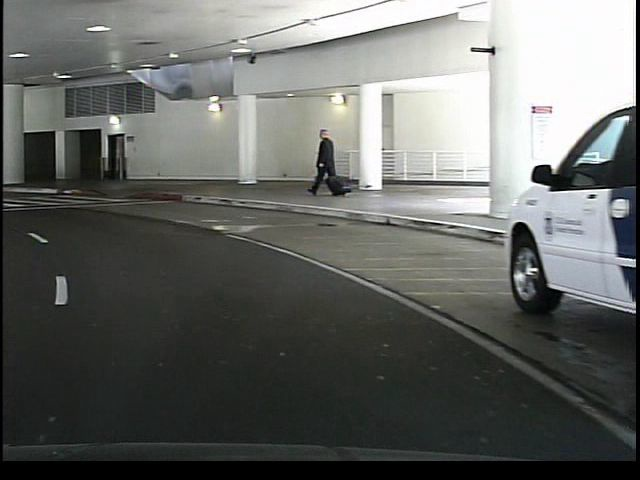person: (301, 126, 342, 204)
